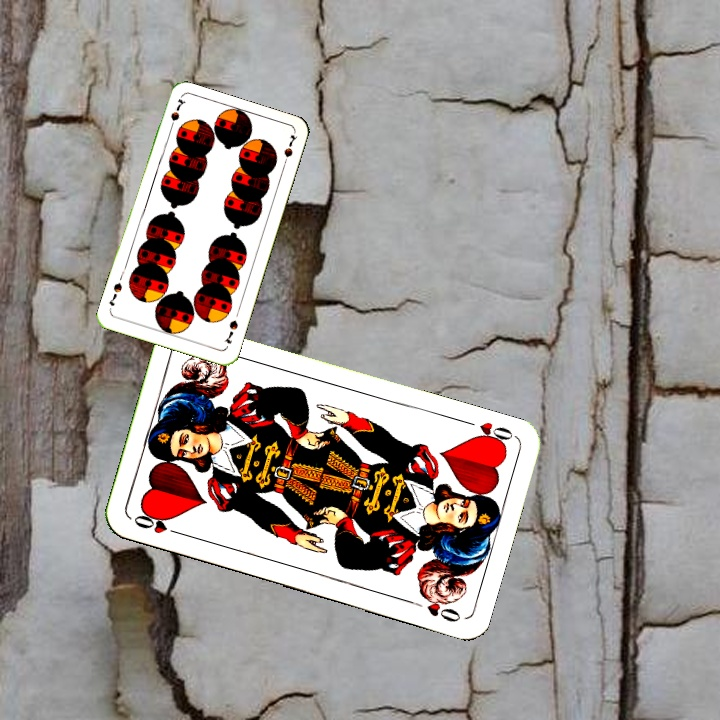HO: (459, 416, 516, 450), (129, 510, 186, 538)
S7: (165, 95, 187, 134), (220, 316, 240, 346)
